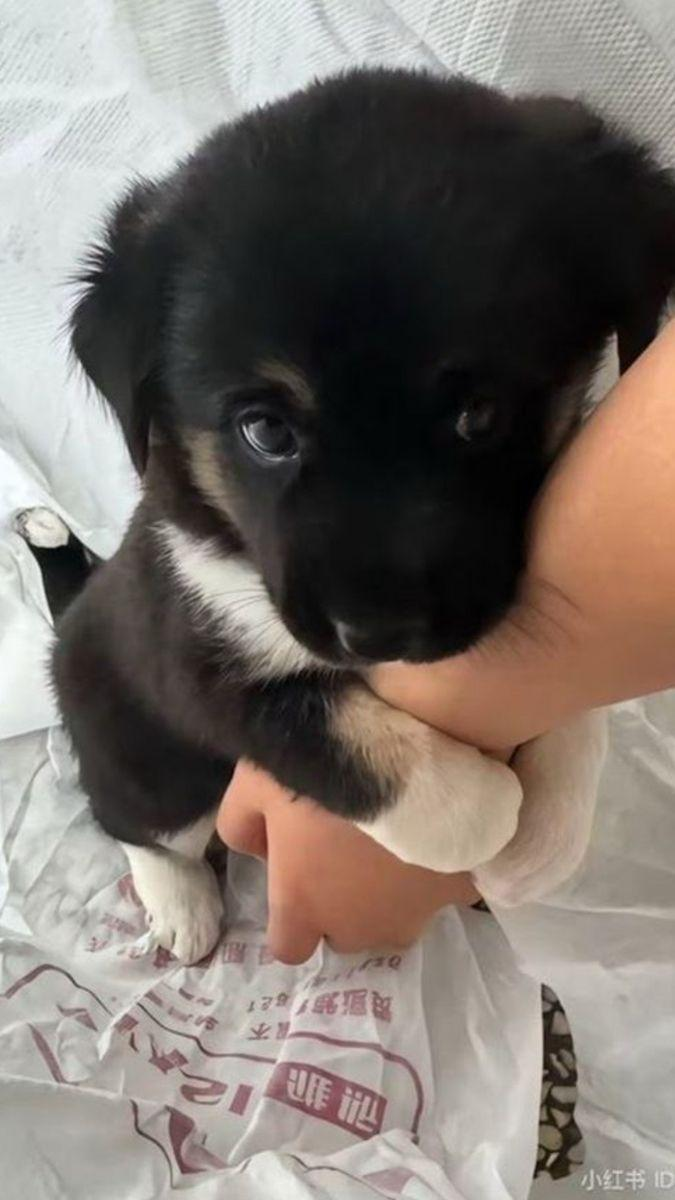puppy-dog: (11, 62, 675, 967)
